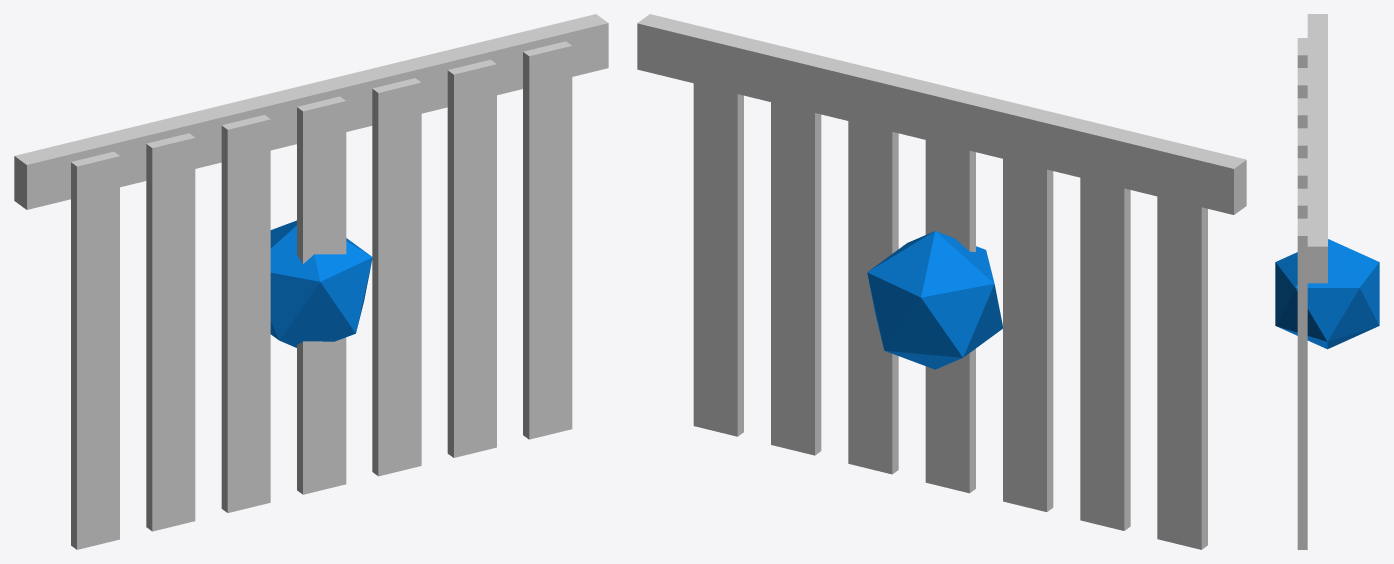
The model's file is End rail.glb.
The picture shows the model from 3 angles, left to right: view 1: azimuth 30°, elevation 25°; view 2: azimuth 150°, elevation 25°; view 3: azimuth 270°, elevation 25°; orthographic projection. The views are drawn at different scales.
Parts seen in each view (by area): view 1: Plane.043, Plane.044, Joint.059; view 2: Plane.043, Plane.044, Joint.059; view 3: Joint.059, Plane.044, Plane.043.
Boxes of the visible parts, x1=… form: Plane.043: x1=71, y1=41, x2=572, y2=549; Plane.044: x1=14, y1=14, x2=608, y2=209; Joint.059: x1=270, y1=220, x2=372, y2=347; Plane.043: x1=693, y1=83, x2=1207, y2=549; Plane.044: x1=637, y1=14, x2=1246, y2=214; Joint.059: x1=867, y1=231, x2=1002, y2=369; Joint.059: x1=1275, y1=239, x2=1379, y2=349; Plane.044: x1=1307, y1=14, x2=1327, y2=283; Plane.043: x1=1297, y1=38, x2=1307, y2=549.
Size of the model in its own units: 1.37 by 0.8813 by 0.2593.
